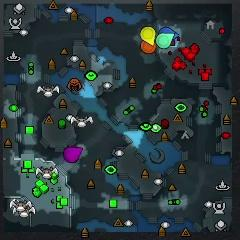p1: (158, 27, 179, 37)
p2: (156, 33, 175, 49)
p3: (63, 147, 82, 163)
p4: (141, 27, 155, 46)
p5: (141, 41, 157, 54)
